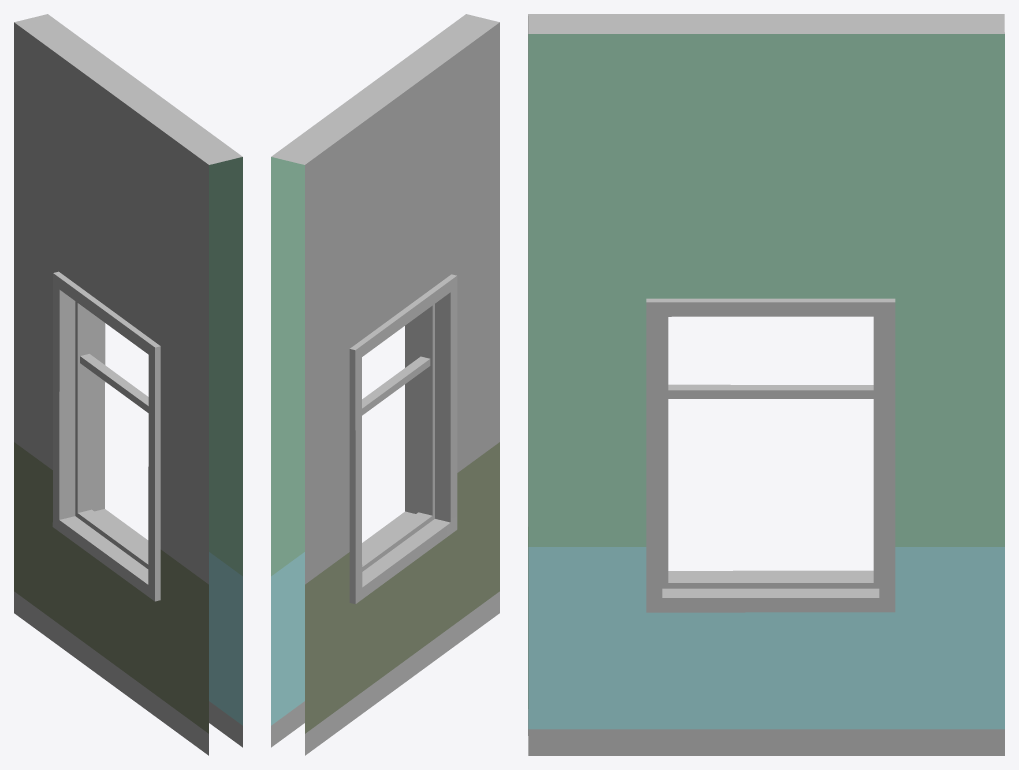
File: SM_Wall_Window_A_200.fbx
3 renders of one model, left to right at view 1: azimuth 30°, elevation 25°; view 2: azimuth 150°, elevation 25°; view 3: azimuth 270°, elevation 25°, orthographic. The views are drawn at different scales.
Parts seen in each view (by area): view 1: SM_Wall_Window_A_200; view 2: SM_Wall_Window_A_200; view 3: SM_Wall_Window_A_200.
Boxes of the visible parts, x1,y1,x2,y2 form: SM_Wall_Window_A_200: (14,14,242,755); SM_Wall_Window_A_200: (271,14,499,755); SM_Wall_Window_A_200: (528,14,1004,755).
Size of the model in its own units: 27.27 by 334 by 200.
